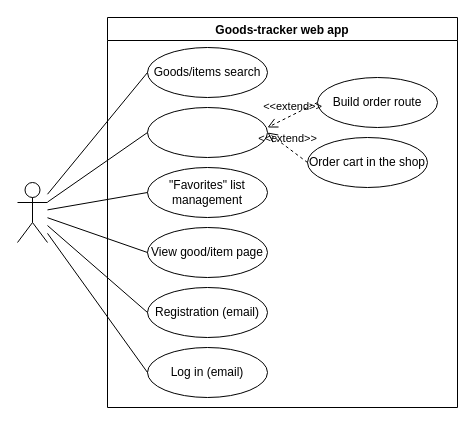
The diagram is 475 pixels wide and 425 high, and some of its shapes have lost their labels. Here are the shapes that lost their labels. From the top down, the box of each, then its label:
(146, 106, 268, 158): Cart management
(16, 182, 48, 242): User
